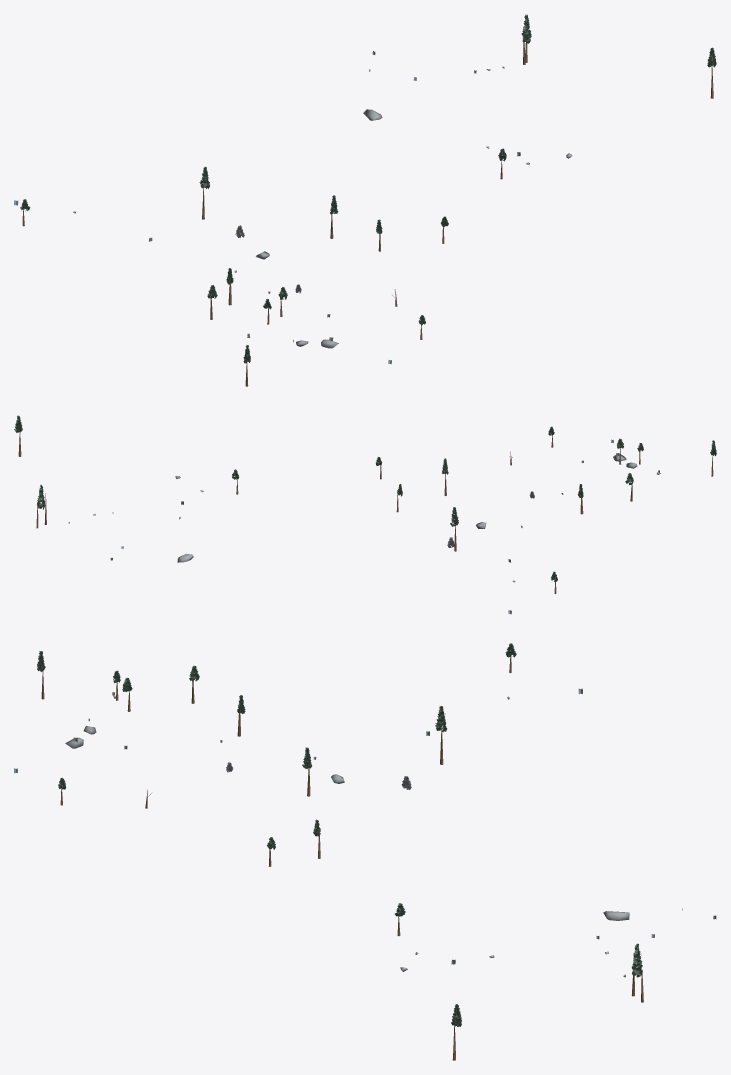
Rendered from frost_land_scatter_c15_12_lod1.glb.
The picture shows the model from 3 angles, top to bottom: view 1: azimuth 30°, elevation 25°; view 2: azimuth 150°, elevation 25°; view 3: azimuth 270°, elevation 25°; orthographic projection. The views are drawn at different scales.
Parts seen in each view (by area): view 1: frost_land_scatter_c15_12_lod1; view 2: frost_land_scatter_c15_12_lod1; view 3: frost_land_scatter_c15_12_lod1.
Boxes of the visible parts, x1,y1,x2,y2 form: frost_land_scatter_c15_12_lod1: (14, 14, 716, 386); frost_land_scatter_c15_12_lod1: (14, 415, 716, 614); frost_land_scatter_c15_12_lod1: (14, 643, 716, 1060).
Bounding box in the file's own units: 183 × 19.48 × 146.
